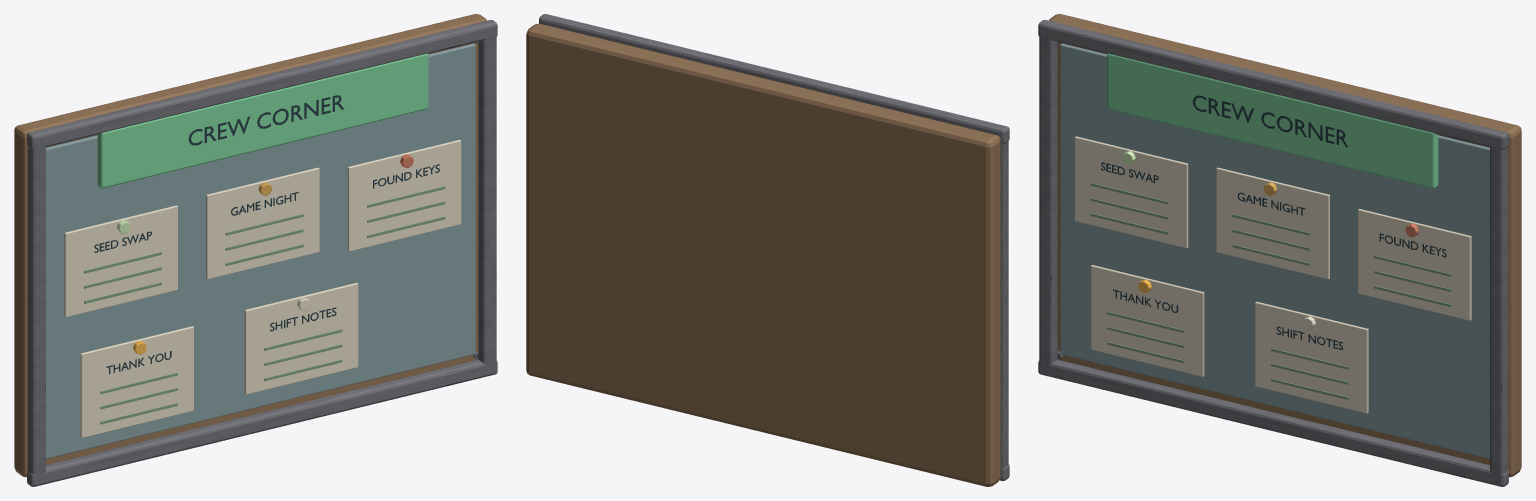
The model's file is lbd_crew_noticeboard.glb.
3 renders of one model, left to right at view 1: azimuth 30°, elevation 25°; view 2: azimuth 150°, elevation 25°; view 3: azimuth 330°, elevation 25°, orthographic.
Parts seen in each view (by area): view 1: crew_noticeboard__fabric backing_022, crew_noticeboard__header_037, crew_noticeboard__mount_003, crew_noticeboard__pinned note_075, crew_noticeboard__pinned note_107, crew_noticeboard__pinned note_091, crew_noticeboard__pinned note_043, crew_noticeboard__pinned note_059, crew_noticeboard__frame_031, crew_noticeboard__frame_034, crew_noticeboard__frame_025, crew_noticeboard__frame_028 (+1 smaller); view 2: crew_noticeboard__mount_003, crew_noticeboard__frame_034, crew_noticeboard__frame_025; view 3: crew_noticeboard__fabric backing_022, crew_noticeboard__header_037, crew_noticeboard__mount_003, crew_noticeboard__pinned note_043, crew_noticeboard__pinned note_091, crew_noticeboard__pinned note_059, crew_noticeboard__pinned note_107, crew_noticeboard__pinned note_075, crew_noticeboard__frame_031, crew_noticeboard__frame_034, crew_noticeboard__frame_025, crew_noticeboard__frame_028 (+1 smaller).
Part boxes in pixels (left/top/right/bottom): crew_noticeboard__fabric backing_022: left=46, top=43, right=475, bottom=458; crew_noticeboard__header_037: left=97, top=53, right=428, bottom=188; crew_noticeboard__mount_003: left=14, top=14, right=486, bottom=477; crew_noticeboard__pinned note_075: left=347, top=139, right=461, bottom=251; crew_noticeboard__pinned note_107: left=244, top=282, right=358, bottom=394; crew_noticeboard__pinned note_091: left=80, top=326, right=193, bottom=437; crew_noticeboard__pinned note_043: left=64, top=205, right=177, bottom=317; crew_noticeboard__pinned note_059: left=206, top=167, right=319, bottom=279; crew_noticeboard__frame_031: left=27, top=359, right=497, bottom=486; crew_noticeboard__frame_034: left=27, top=20, right=497, bottom=149; crew_noticeboard__frame_025: left=27, top=137, right=45, bottom=483; crew_noticeboard__frame_028: left=478, top=27, right=496, bottom=373; crew_noticeboard__mount_003: left=526, top=23, right=1000, bottom=486; crew_noticeboard__frame_034: left=539, top=14, right=1009, bottom=143; crew_noticeboard__frame_025: left=991, top=131, right=1008, bottom=478; crew_noticeboard__fabric backing_022: left=1060, top=43, right=1489, bottom=458; crew_noticeboard__header_037: left=1107, top=53, right=1438, bottom=188; crew_noticeboard__mount_003: left=1049, top=14, right=1521, bottom=477; crew_noticeboard__pinned note_043: left=1074, top=136, right=1188, bottom=248; crew_noticeboard__pinned note_091: left=1091, top=265, right=1204, bottom=376; crew_noticeboard__pinned note_059: left=1216, top=167, right=1329, bottom=279; crew_noticeboard__pinned note_107: left=1255, top=301, right=1368, bottom=413; crew_noticeboard__pinned note_075: left=1358, top=209, right=1471, bottom=320; crew_noticeboard__frame_031: left=1038, top=359, right=1508, bottom=486; crew_noticeboard__frame_034: left=1038, top=20, right=1508, bottom=149; crew_noticeboard__frame_025: left=1039, top=27, right=1057, bottom=374; crew_noticeboard__frame_028: left=1490, top=137, right=1508, bottom=483.
Bounding box in the file's own units: 1.45 × 1.04 × 0.115.
12 materials, 2 textured.
